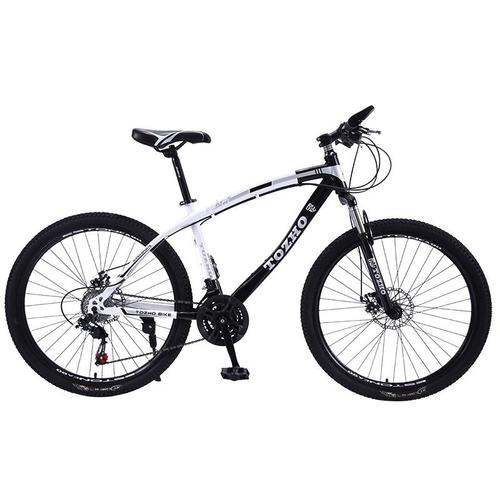单车: (5, 95, 497, 424)
